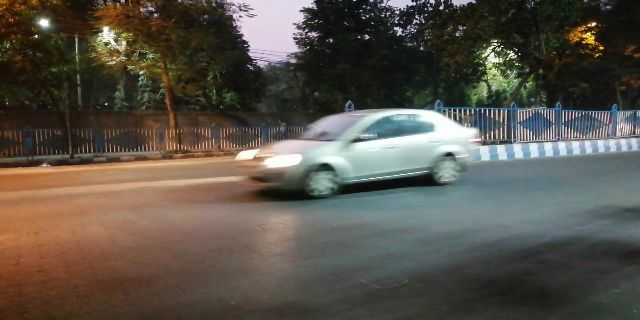Car: (232, 108, 487, 200)
